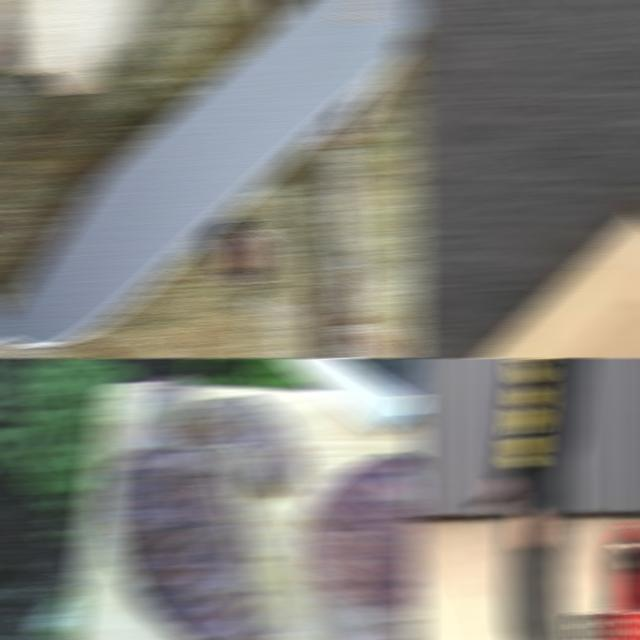Knife_Handle: (474, 470, 522, 509)
